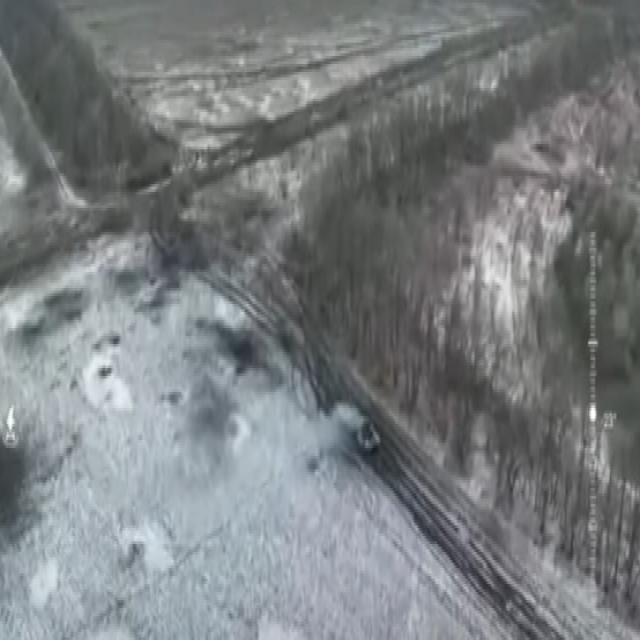cars: (353, 413, 381, 461)
